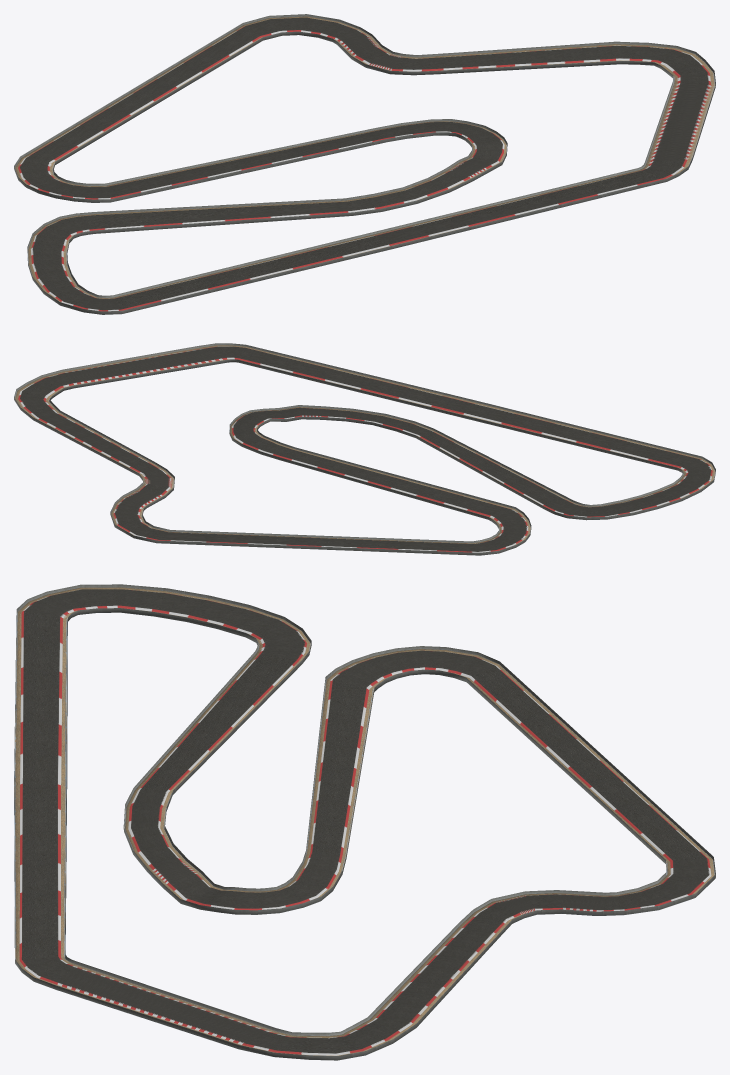
Rendered from pista invertida.fbx.
The picture shows the model from 3 angles, top to bottom: view 1: azimuth 30°, elevation 25°; view 2: azimuth 150°, elevation 25°; view 3: azimuth 270°, elevation 25°; orthographic projection. The views are drawn at different scales.
Visible parts, largest first — view 1: nurbsToPoly1; view 2: nurbsToPoly1; view 3: nurbsToPoly1.
Part boxes in pixels (x1=…): nurbsToPoly1: x1=14, y1=14, x2=715, y2=314; nurbsToPoly1: x1=14, y1=343, x2=715, y2=555; nurbsToPoly1: x1=14, y1=584, x2=715, y2=1060.
Size of the model in its own units: 212 by 2.3 by 133.
